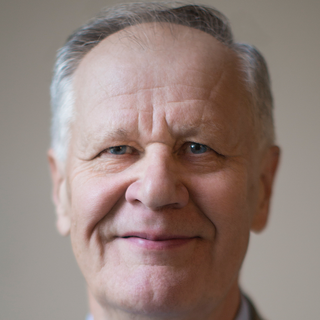eye: (94, 140, 141, 163), (176, 138, 221, 162)
